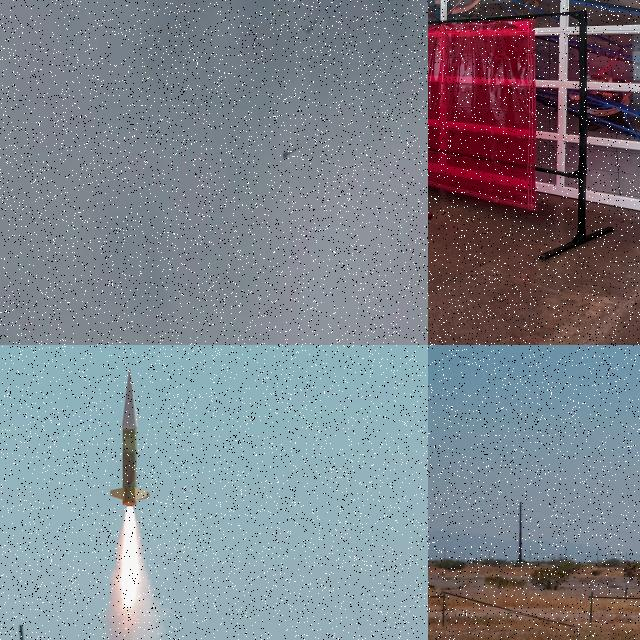Rocket: (108, 368, 154, 508), (282, 147, 297, 160)
